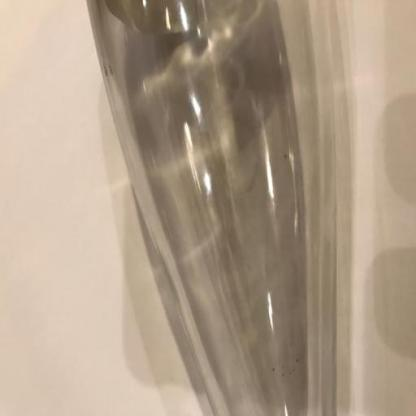trash: (84, 0, 308, 414)
